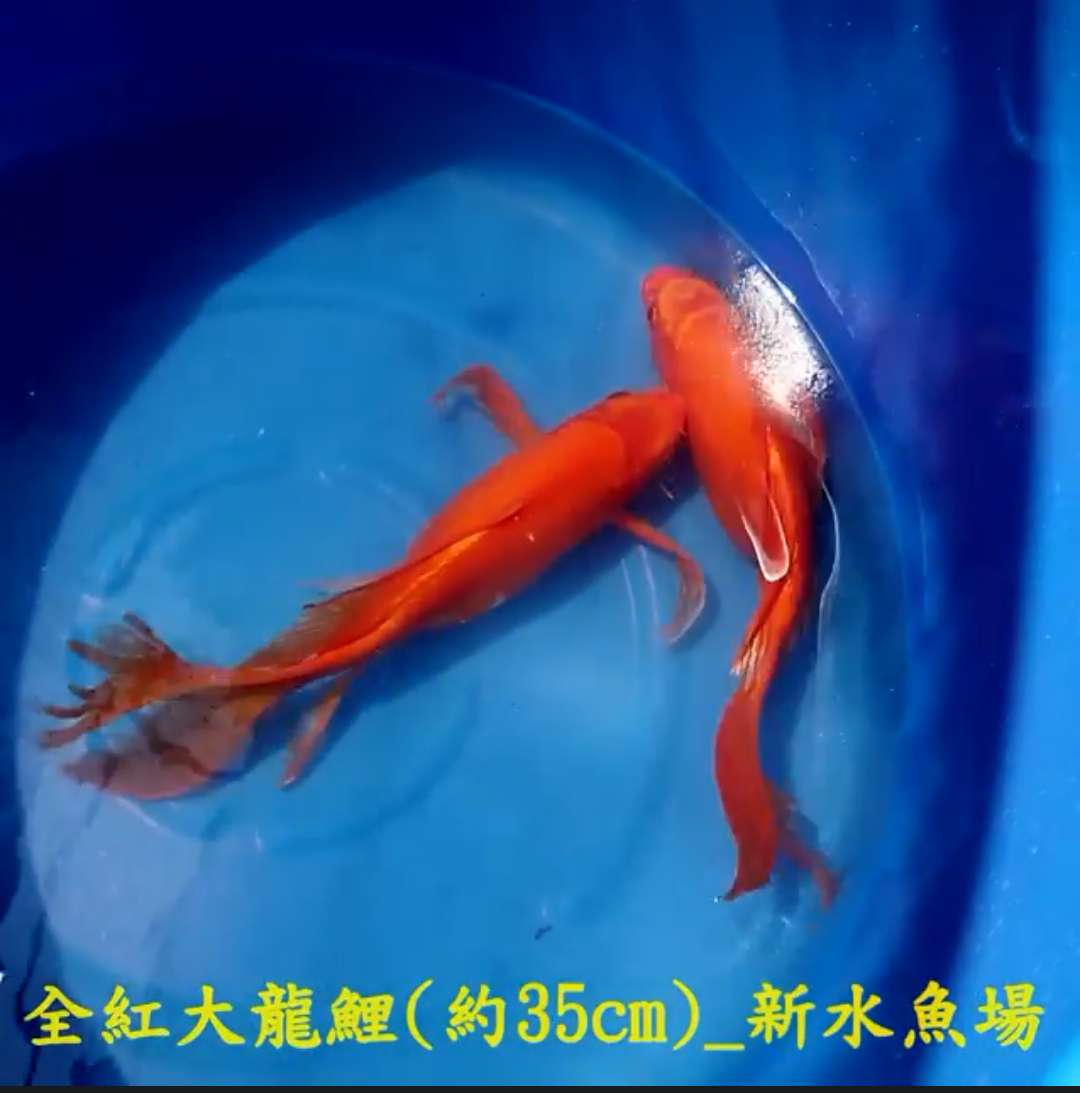red: (40, 361, 707, 803), (636, 255, 857, 907)
